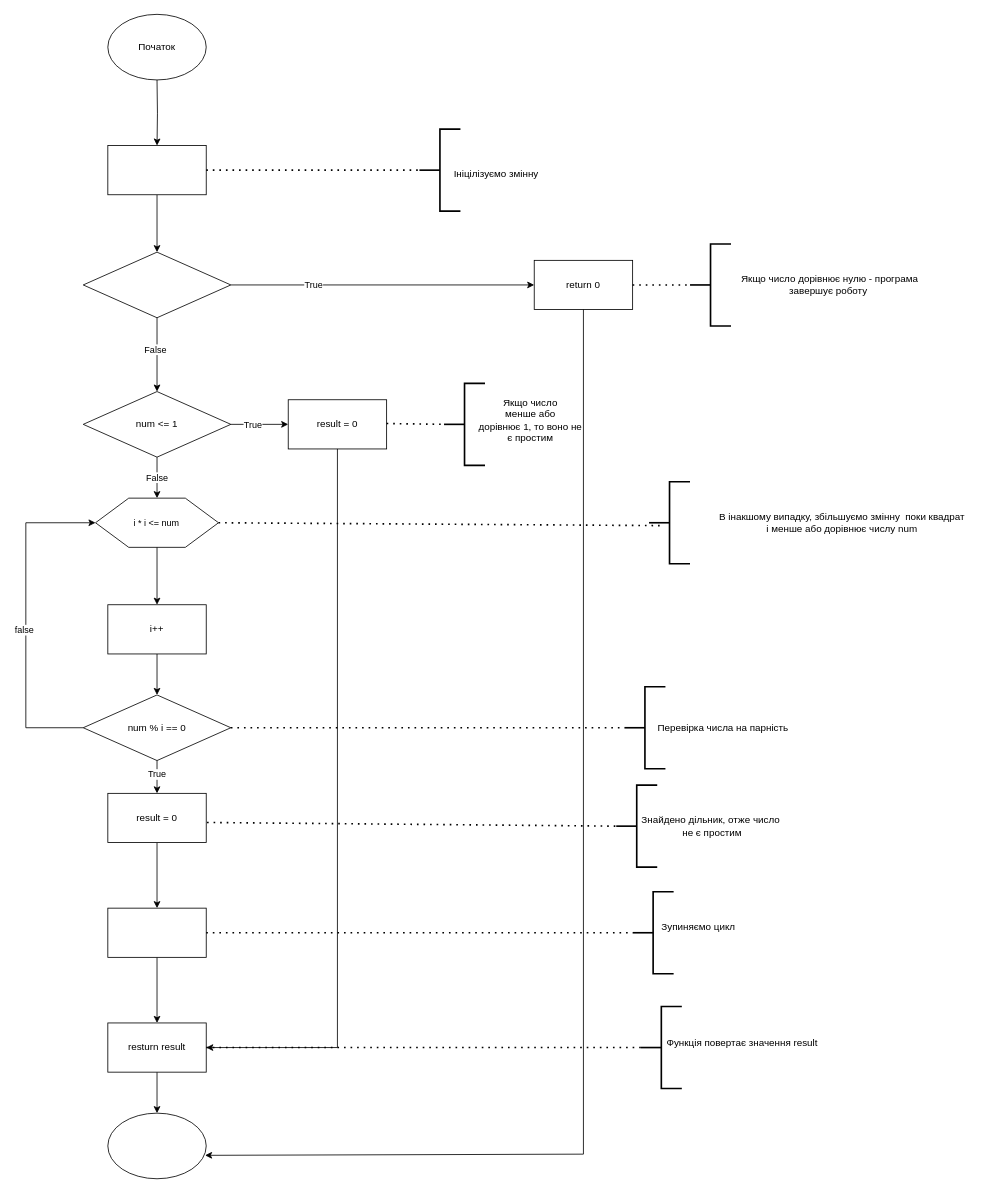
Some shapes in this 986 by 1193 pixel diagram are drawn without their labels. The box of each missing label's shape, as (x1, y1, x2, y2) in pixels:
break: (107, 907, 206, 957)
int result = 1: (107, 145, 206, 195)
num == 0: (82, 251, 231, 318)
Кінець: (107, 1112, 206, 1179)
